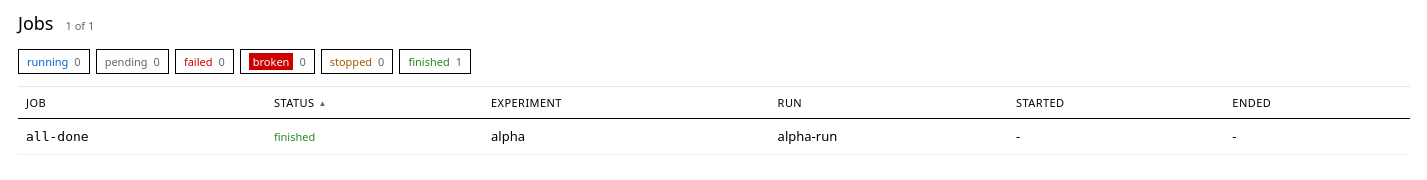
Scenario: JobsDashboard › says so when the filters hide every job
This screenshot has width=1427, height=180.
Click the button "finished 1". click: click(435, 62)
box: [399,49,471,74]
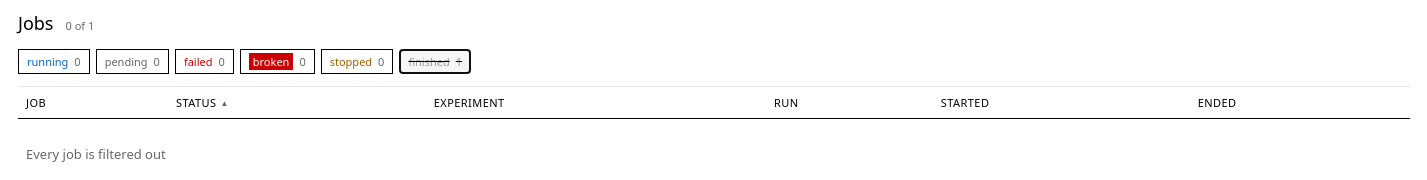
Now the text "Every job is filtered out" is shown, box [26,145,166,163]
